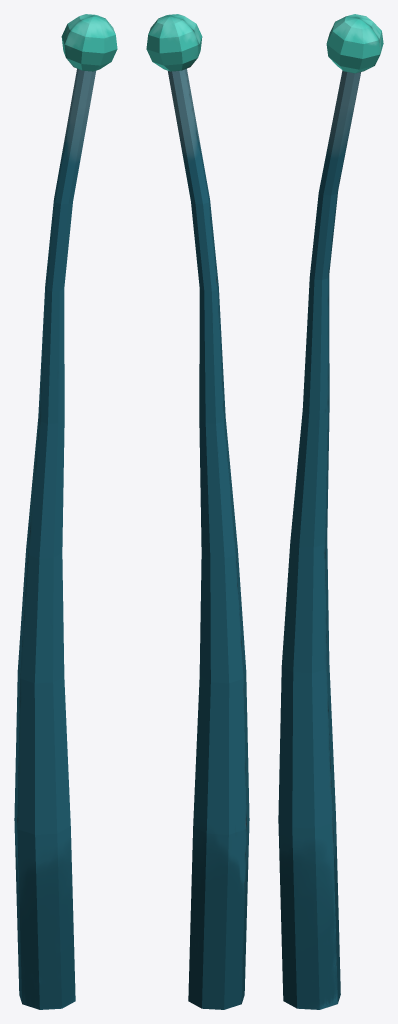
The model's file is stebel.glb.
3 views of the same model, side by side, from view 1: azimuth 30°, elevation 25°; view 2: azimuth 150°, elevation 25°; view 3: azimuth 330°, elevation 25° (orthographic). The views are drawn at different scales.
Visible parts, largest first — view 1: Cylinder; view 2: Cylinder; view 3: Cylinder.
Part boxes in pixels (box(x1,y1,x2,y2)): Cylinder: box(14, 14, 117, 1009); Cylinder: box(146, 14, 249, 1009); Cylinder: box(278, 14, 383, 1009).
Size of the model in its own units: 1.15 by 11.01 by 0.6.
1 material, 1 textured.
